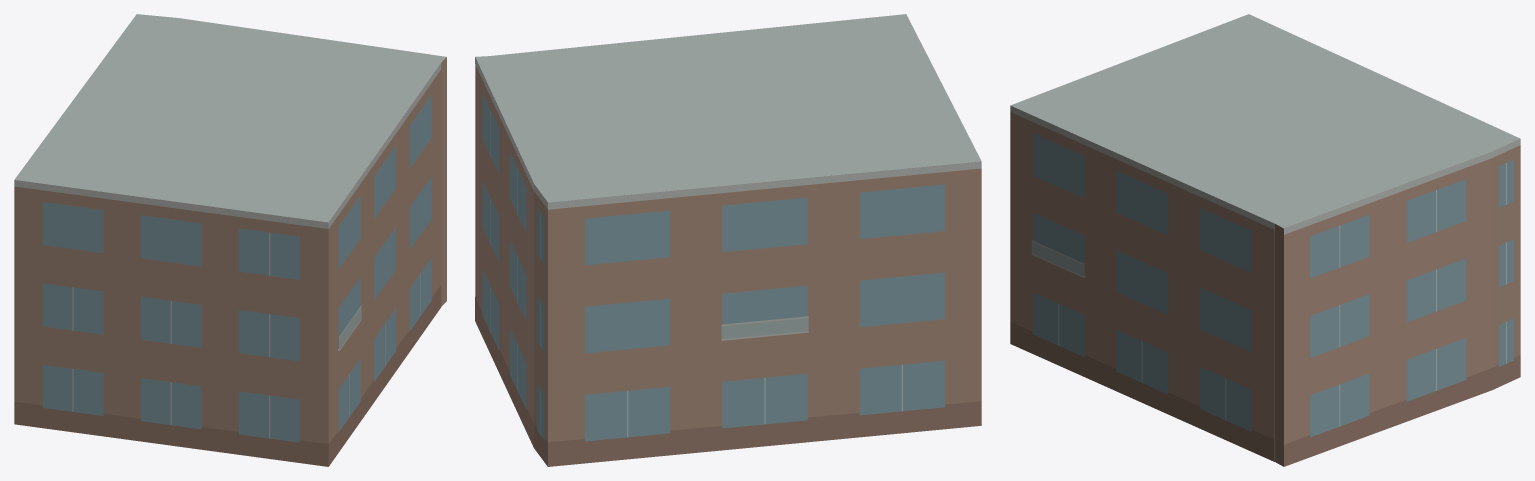
Rendered from survey-upis-32683024.glb.
The picture shows the model from 3 angles, left to right: view 1: azimuth 30°, elevation 25°; view 2: azimuth 150°, elevation 25°; view 3: azimuth 270°, elevation 25°; orthographic projection. The views are drawn at different scales.
Visible parts, largest first — view 1: survey-upis-32683024.tmp; view 2: survey-upis-32683024.tmp; view 3: survey-upis-32683024.tmp.
Boxes of the visible parts, bbox=[...] form: survey-upis-32683024.tmp: bbox=[14, 14, 446, 466]; survey-upis-32683024.tmp: bbox=[475, 14, 981, 466]; survey-upis-32683024.tmp: bbox=[1010, 14, 1520, 466].
Bounding box in the file's own units: 17.67 × 9.15 × 17.76.
